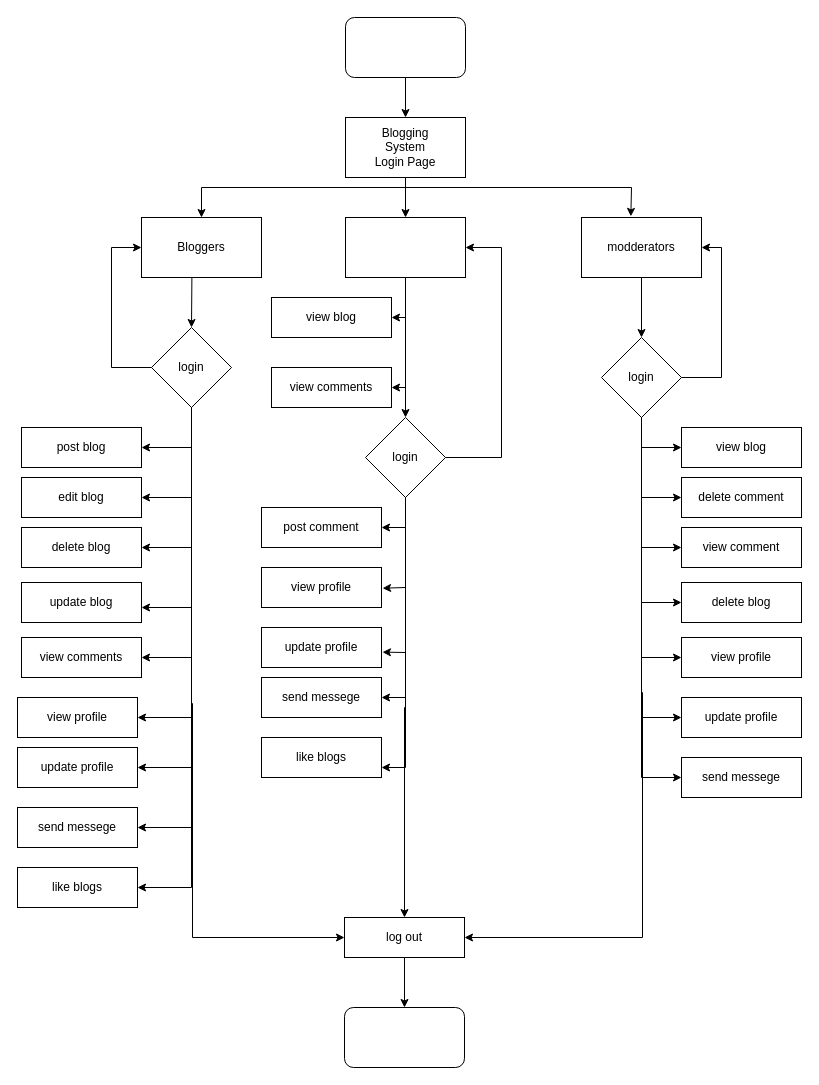
Image size: 819x1085. Some labels were removed from this diagram. Here are the shapes that lost their labels. From the top down, the box of each, then its label:
(344, 16, 466, 78): Start
(344, 216, 466, 278): User/readers
(344, 1006, 464, 1068): End
